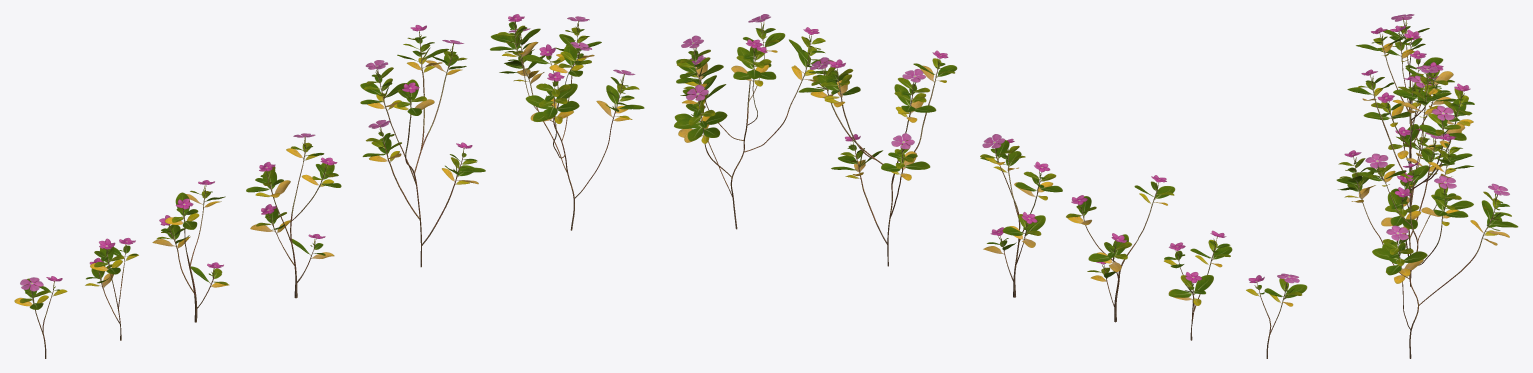
3 views of the same model, side by side, from view 1: azimuth 30°, elevation 25°; view 2: azimuth 150°, elevation 25°; view 3: azimuth 270°, elevation 25° (orthographic). The views are drawn at different scales.
Visible parts, largest first — view 1: periwinkle_plant_01_LOD0, periwinkle_plant_02_LOD0, periwinkle_plant_03_LOD0, periwinkle_plant_04_LOD0, periwinkle_plant_05_LOD0, periwinkle_plant_06_LOD0; view 2: periwinkle_plant_01_LOD0, periwinkle_plant_02_LOD0, periwinkle_plant_03_LOD0, periwinkle_plant_04_LOD0, periwinkle_plant_05_LOD0, periwinkle_plant_06_LOD0; view 3: periwinkle_plant_01_LOD0, periwinkle_plant_02_LOD0, periwinkle_plant_03_LOD0, periwinkle_plant_04_LOD0, periwinkle_plant_05_LOD0, periwinkle_plant_06_LOD0.
Part boxes in pixels (x1=…): periwinkle_plant_01_LOD0: x1=490, y1=14, x2=644, y2=230; periwinkle_plant_02_LOD0: x1=360, y1=25, x2=485, y2=267; periwinkle_plant_03_LOD0: x1=246, y1=133, x2=341, y2=298; periwinkle_plant_04_LOD0: x1=152, y1=180, x2=229, y2=322; periwinkle_plant_05_LOD0: x1=85, y1=238, x2=138, y2=340; periwinkle_plant_06_LOD0: x1=14, y1=276, x2=67, y2=358; periwinkle_plant_01_LOD0: x1=674, y1=14, x2=833, y2=229; periwinkle_plant_02_LOD0: x1=799, y1=50, x2=957, y2=266; periwinkle_plant_03_LOD0: x1=980, y1=134, x2=1062, y2=297; periwinkle_plant_04_LOD0: x1=1066, y1=175, x2=1175, y2=322; periwinkle_plant_05_LOD0: x1=1164, y1=230, x2=1232, y2=340; periwinkle_plant_06_LOD0: x1=1246, y1=273, x2=1307, y2=358; periwinkle_plant_01_LOD0: x1=1336, y1=133, x2=1518, y2=358; periwinkle_plant_02_LOD0: x1=1347, y1=65, x2=1474, y2=286; periwinkle_plant_03_LOD0: x1=1363, y1=75, x2=1441, y2=207; periwinkle_plant_04_LOD0: x1=1356, y1=27, x2=1455, y2=171; periwinkle_plant_05_LOD0: x1=1377, y1=25, x2=1454, y2=123; periwinkle_plant_06_LOD0: x1=1383, y1=14, x2=1429, y2=103.
Bounding box in the file's own units: 1.24 × 0.4107 × 0.3207.
Materials: 1 (1 with a texture image).
